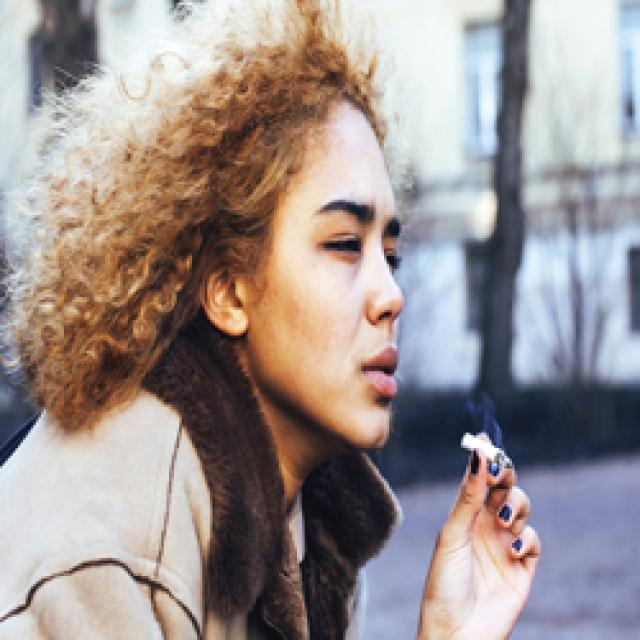Smooking: (445, 434, 512, 463)
